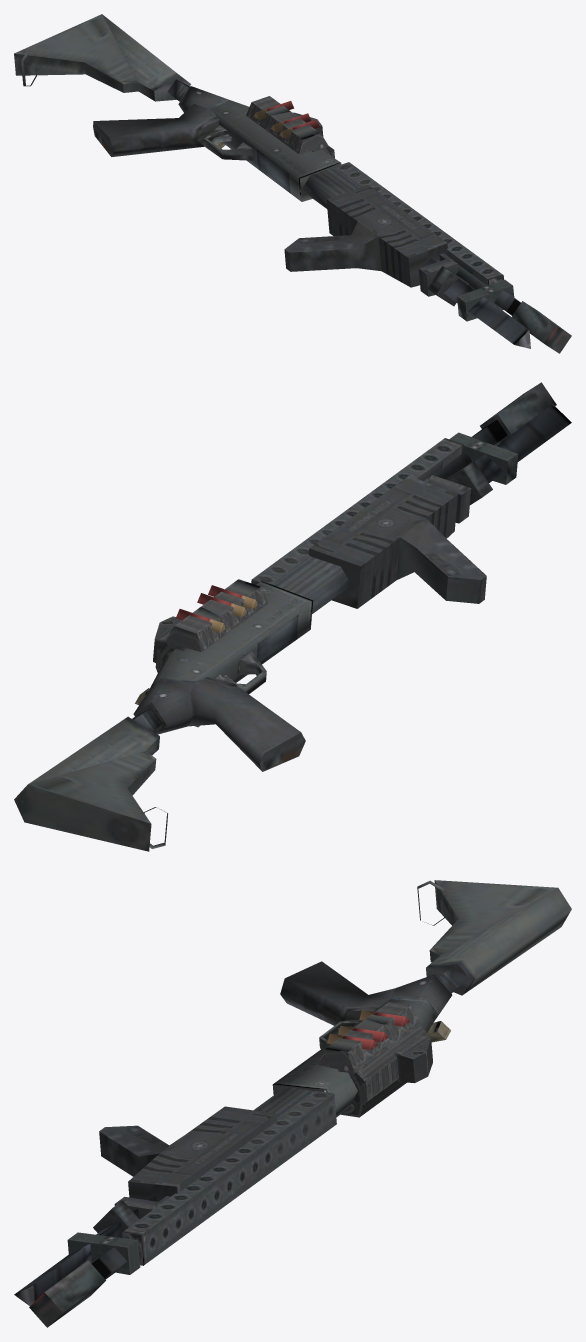
Rendered from Pickup_WeaponSdq01.glb.
3 renders of one model, top to bottom at view 1: azimuth 30°, elevation 25°; view 2: azimuth 150°, elevation 25°; view 3: azimuth 330°, elevation 25°, orthographic. The views are drawn at different scales.
Visible parts, largest first — view 1: pk_weapon_sdq01; view 2: pk_weapon_sdq01; view 3: pk_weapon_sdq01.
Part boxes in pixels (left/top/right/bottom): pk_weapon_sdq01: left=14, top=14, right=571, bottom=353; pk_weapon_sdq01: left=14, top=382, right=571, bottom=851; pk_weapon_sdq01: left=14, top=880, right=571, bottom=1327.
Size of the model in its own units: 0.8835 by 0.3134 by 4.1.
Materials: 1 (1 with a texture image).
